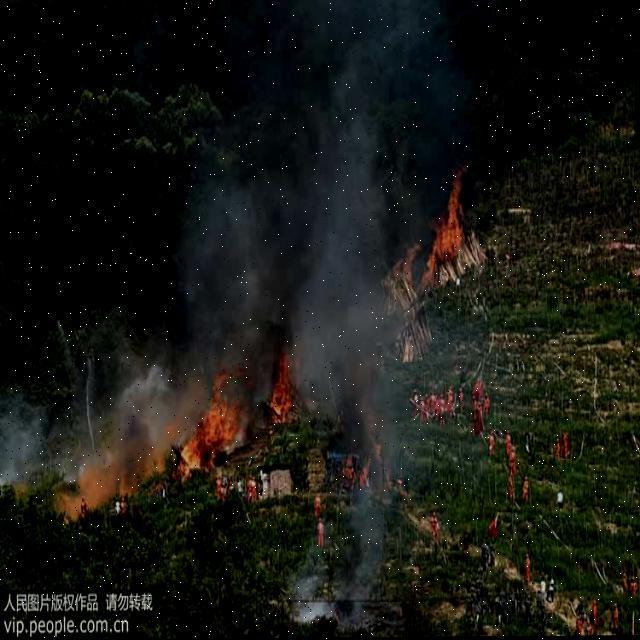Fire: (417, 170, 472, 276), (174, 383, 239, 471), (264, 357, 302, 429)
